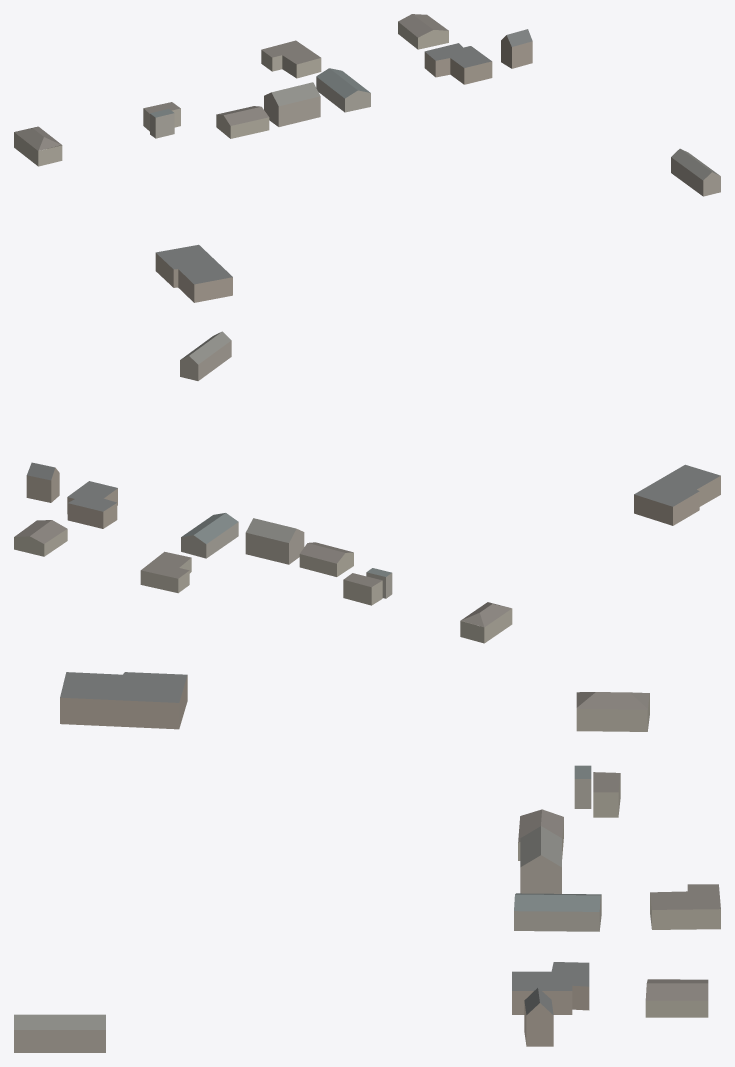
Rendered from a68326fd9c5e-chunk-1203_11844.glb.
The picture shows the model from 3 angles, top to bottom: view 1: azimuth 30°, elevation 25°; view 2: azimuth 150°, elevation 25°; view 3: azimuth 270°, elevation 25°; orthographic projection. The views are drawn at different scales.
Visible parts, largest first — view 1: building_51598, building_6570, building_119251, building_74055, building_141867, building_949, building_117885, building_36261, building_8632, building_35553, building_137795, building_15090; view 2: building_51598, building_119251, building_6570, building_141867, building_74055, building_949, building_117885, building_36261, building_8632, building_35553, building_15090; view 3: building_51598, building_949, building_141867, building_6570, building_74055, building_117885, building_119251, building_36261, building_35553, building_15090, building_8632, building_137795.
Part boxes in pixels (<box>): building_51598: <box>155,244,232,302</box>; building_6570: <box>424,43,492,84</box>; building_119251: <box>264,82,320,126</box>; building_74055: <box>261,40,321,78</box>; building_141867: <box>316,68,370,112</box>; building_949: <box>671,148,720,196</box>; building_117885: <box>14,126,62,166</box>; building_36261: <box>398,14,448,49</box>; building_8632: <box>216,106,269,138</box>; building_35553: <box>501,29,532,68</box>; building_137795: <box>150,109,174,138</box>; building_15090: <box>143,102,180,131</box>; building_51598: <box>634,464,720,525</box>; building_119251: <box>245,518,304,564</box>; building_6570: <box>67,481,117,528</box>; building_141867: <box>181,513,238,558</box>; building_74055: <box>140,551,191,593</box>; building_949: <box>180,331,231,380</box>; building_117885: <box>460,602,512,643</box>; building_36261: <box>14,520,67,556</box>; building_8632: <box>299,542,353,576</box>; building_35553: <box>26,462,59,502</box>; building_15090: <box>343,573,382,605</box>; building_51598: <box>60,672,187,729</box>; building_949: <box>14,1014,105,1052</box>; building_141867: <box>514,893,601,931</box>; building_6570: <box>512,962,589,1014</box>; building_74055: <box>650,884,720,929</box>; building_117885: <box>576,692,649,731</box>; building_119251: <box>520,826,561,893</box>; building_36261: <box>645,979,708,1017</box>; building_35553: <box>524,988,553,1046</box>; building_15090: <box>593,772,620,817</box>; building_8632: <box>518,809,563,860</box>; building_137795: <box>574,765,591,808</box>.
Bounding box in the file's own units: 180 × 10.4 × 152.
